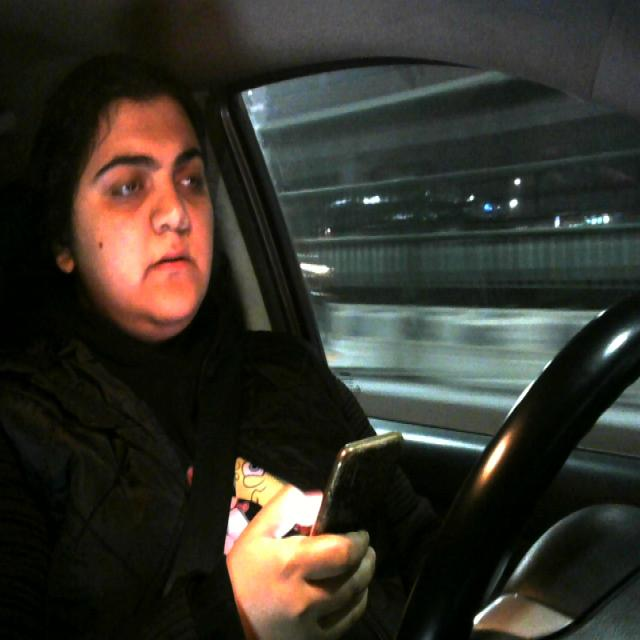mobile use: (301, 398, 402, 640)
